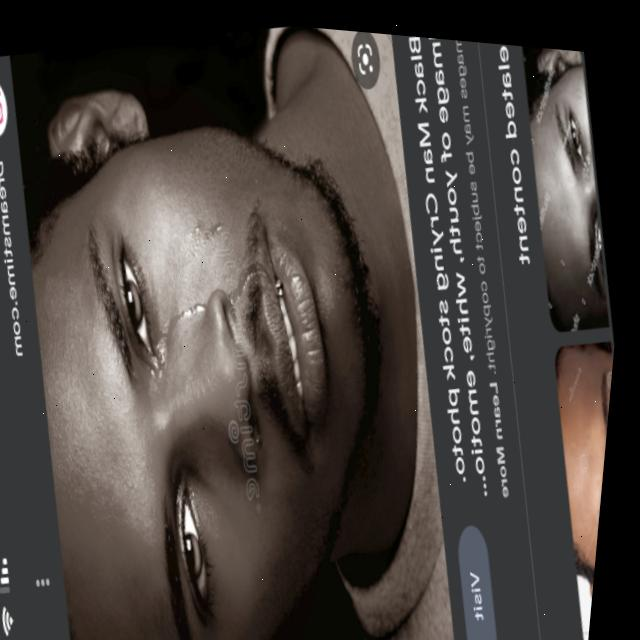natural: (0, 96, 448, 640)
